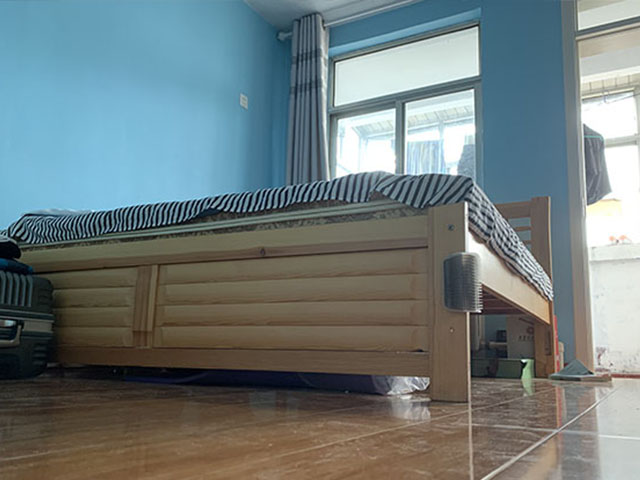bed: (46, 170, 557, 403)
book: (545, 356, 613, 382)
